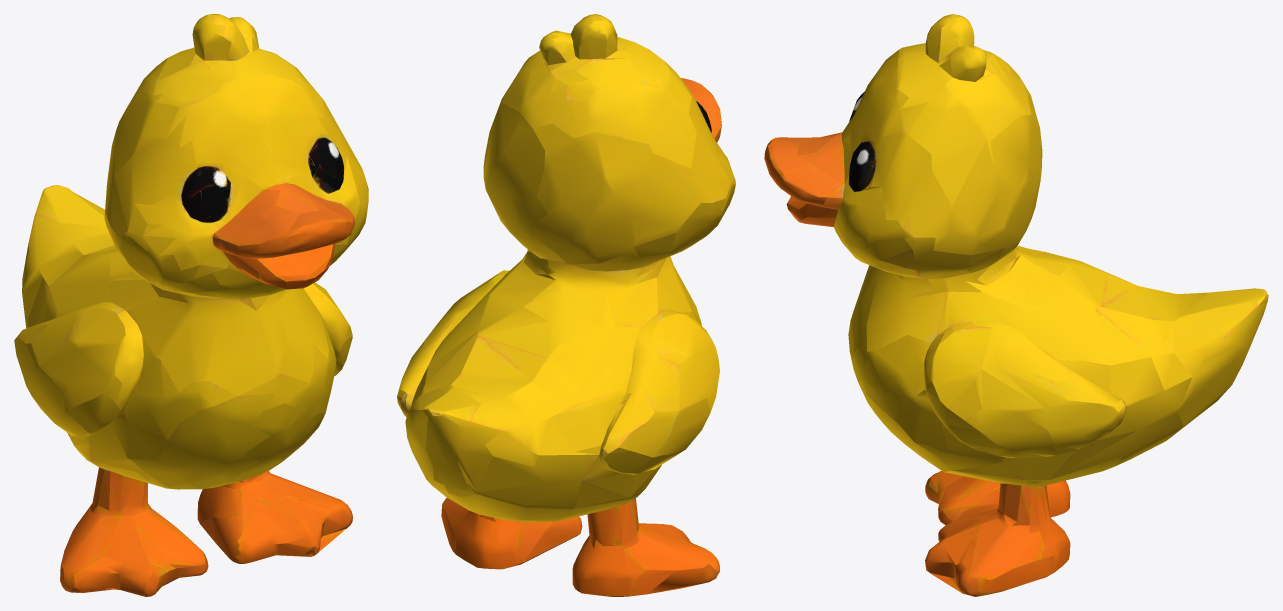
Rendered from duck.glb.
3 views of the same model, side by side, from view 1: azimuth 30°, elevation 25°; view 2: azimuth 150°, elevation 25°; view 3: azimuth 270°, elevation 25° (orthographic). The views are drawn at different scales.
Bounding box in the file's own units: 1.03 × 1.9 × 1.68.
1 material, 1 textured.
